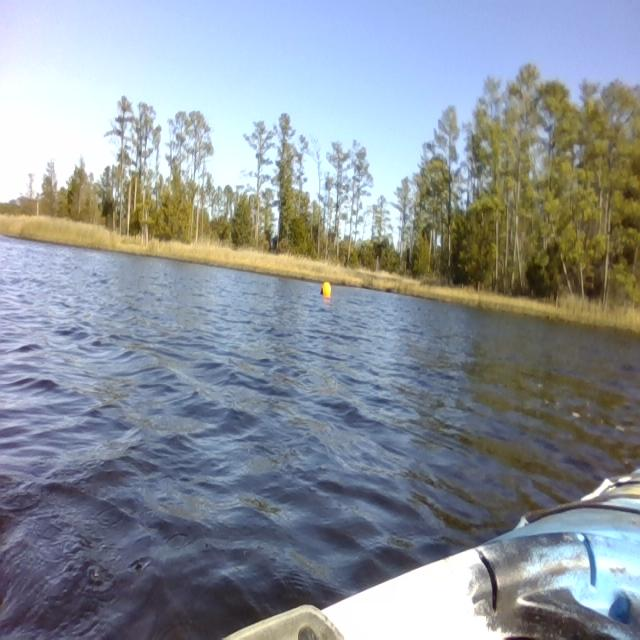Buoy: (318, 278, 333, 302)
